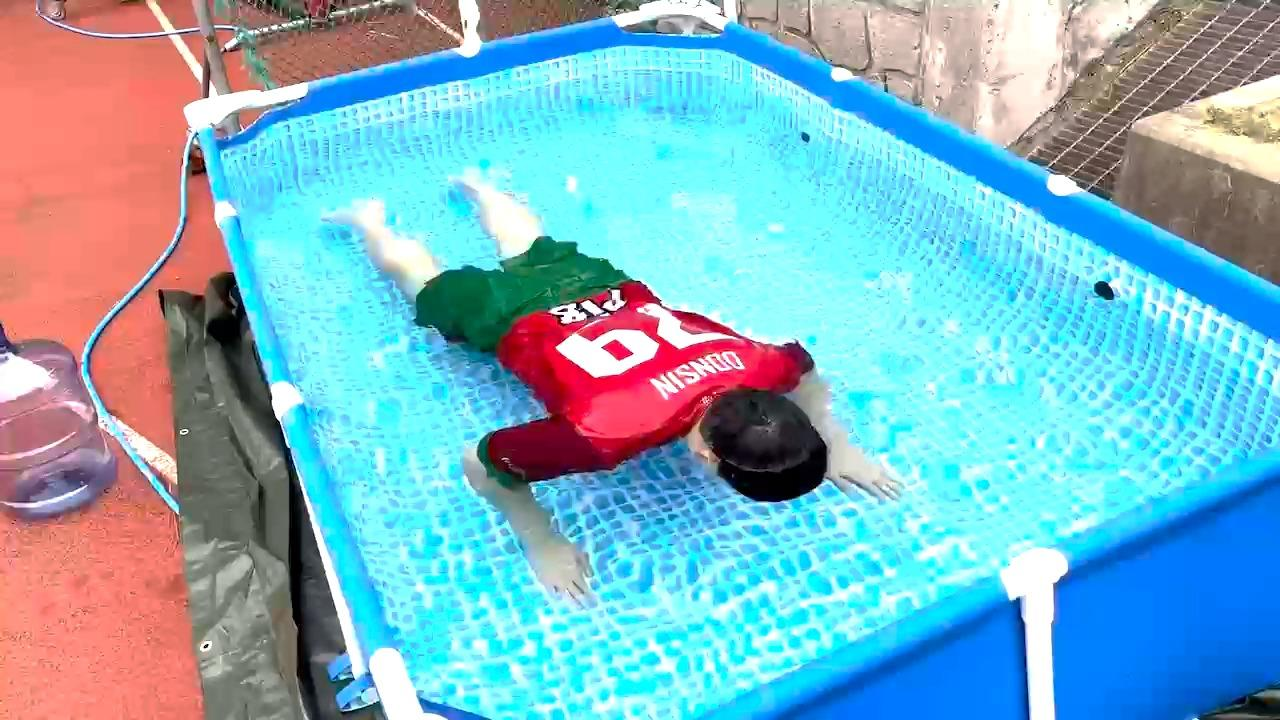Drowning: (290, 157, 922, 592)
